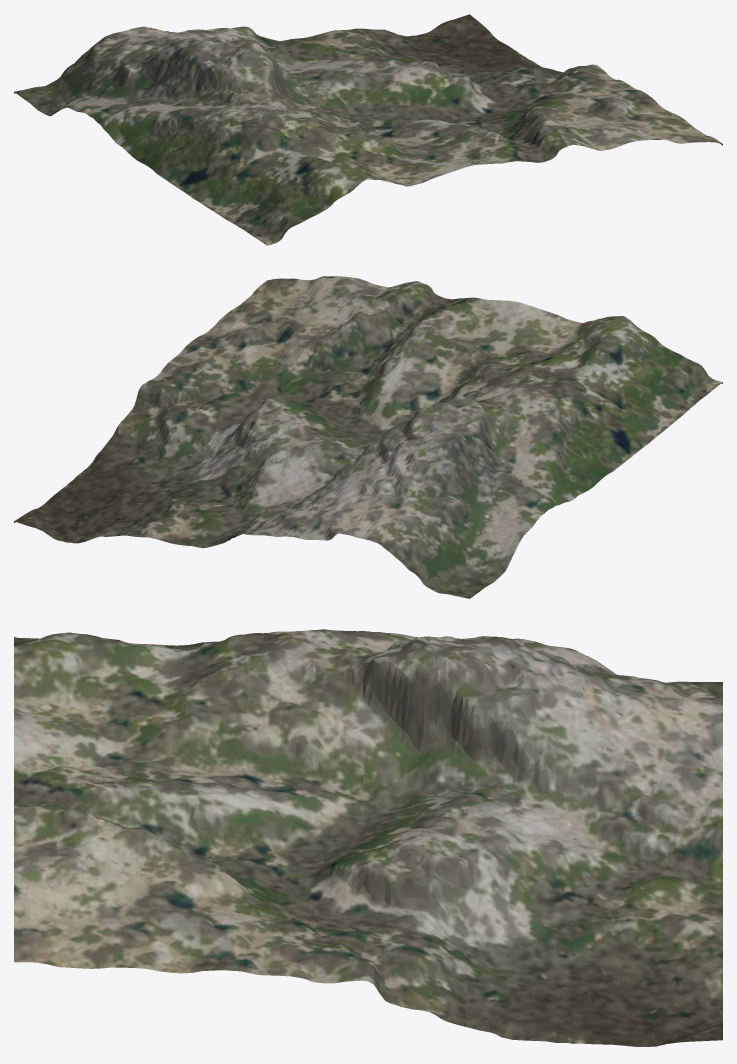
The picture shows the model from 3 angles, top to bottom: view 1: azimuth 30°, elevation 25°; view 2: azimuth 150°, elevation 25°; view 3: azimuth 270°, elevation 25°; orthographic projection. The views are drawn at different scales.
Size of the model in its own units: 250 by 68.54 by 241.
1 material, 1 textured.
